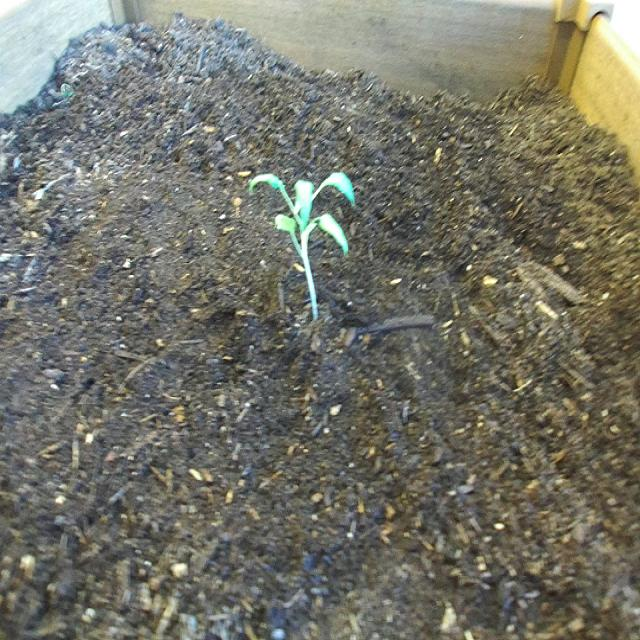Healthy: (247, 166, 360, 332)
